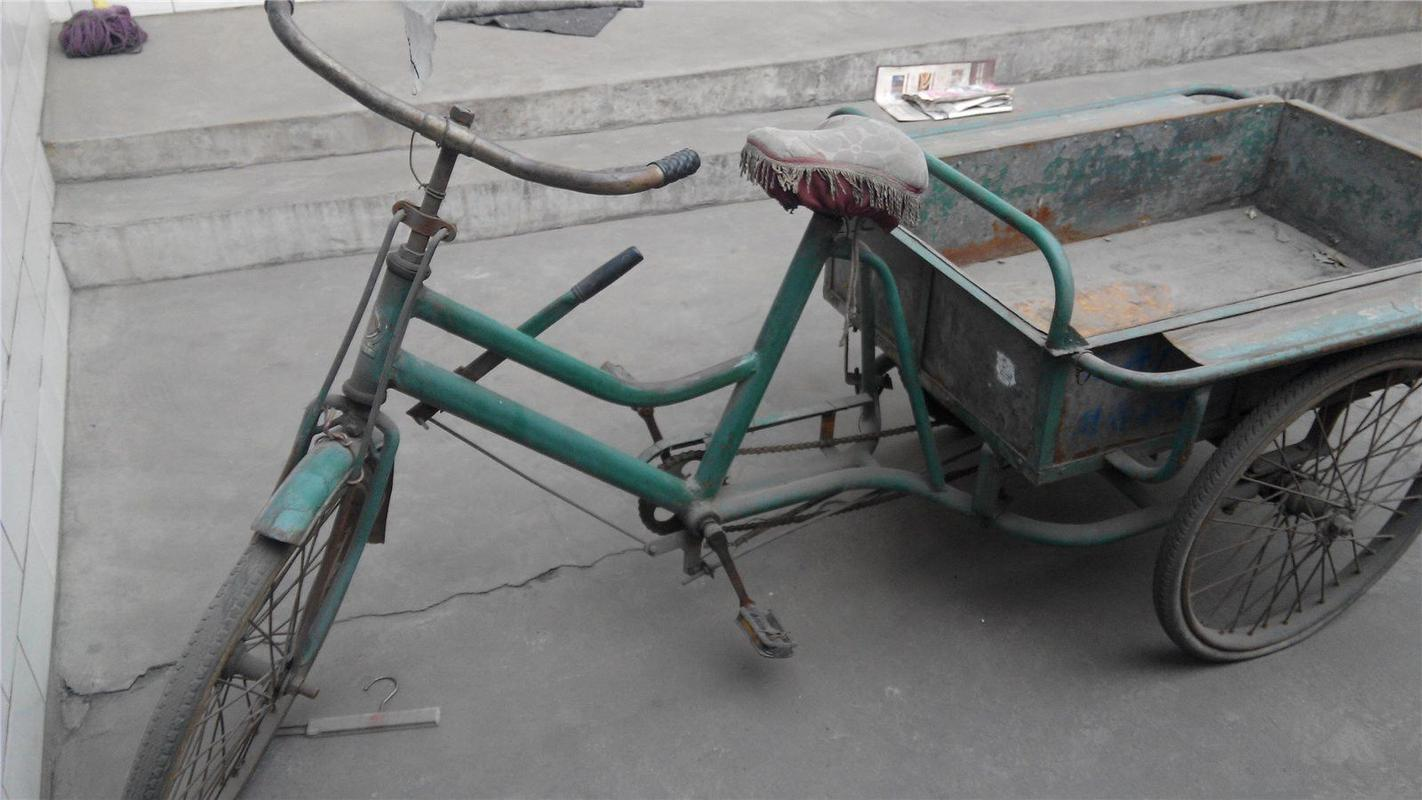empty: (71, 1, 1413, 792)
